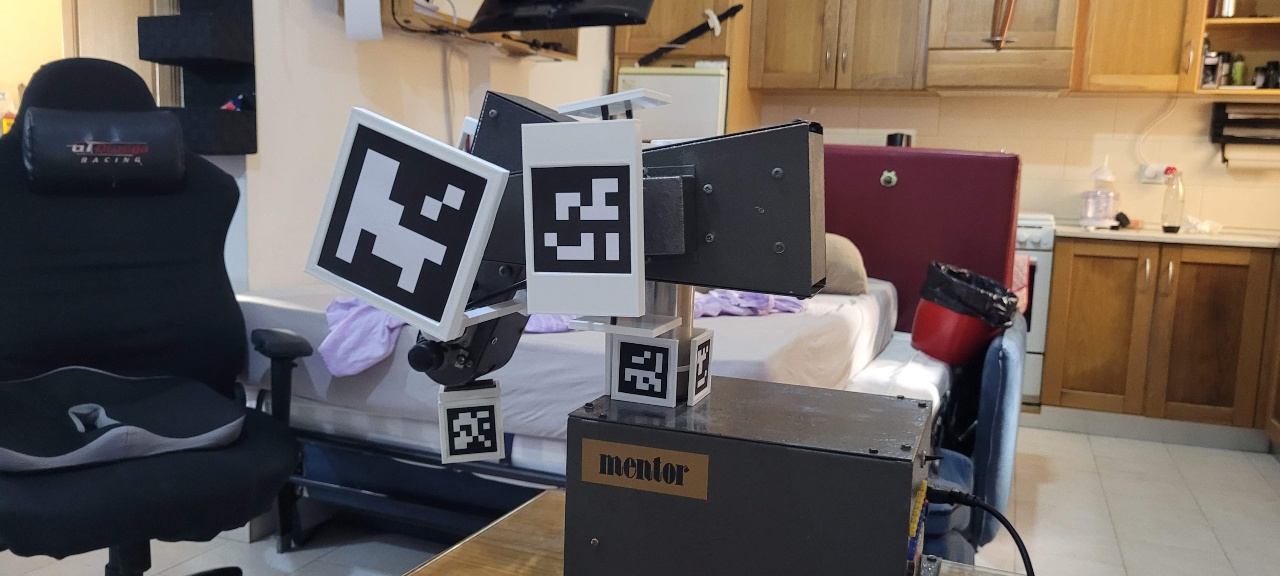Robot: (304, 86, 829, 465)
